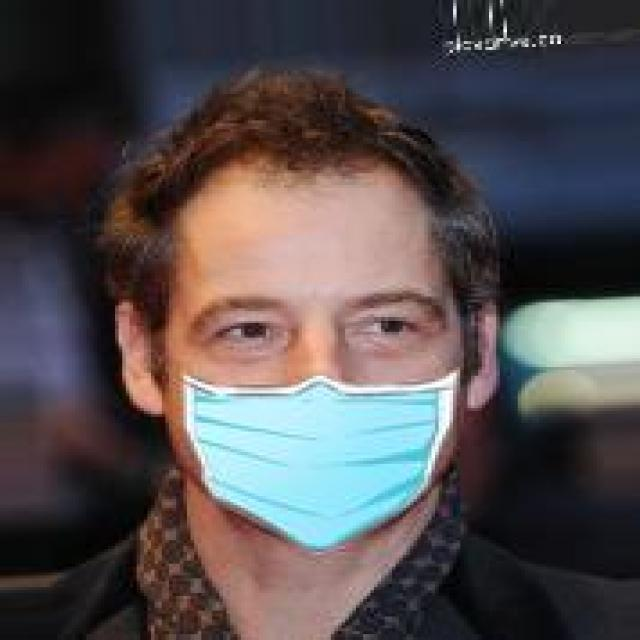mask: (87, 53, 540, 575)
